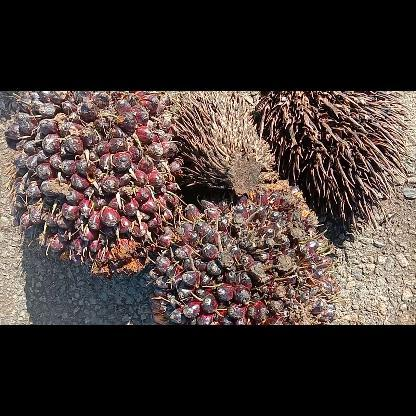Janjang kosong: (258, 90, 414, 238), (172, 91, 276, 195)
TBS mentah: (5, 91, 182, 275), (147, 190, 339, 324)
